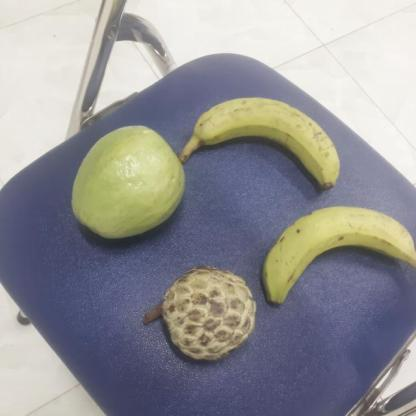annona: (144, 264, 254, 362)
banana: (260, 204, 416, 302), (175, 100, 334, 192)
guava: (67, 126, 184, 239)
